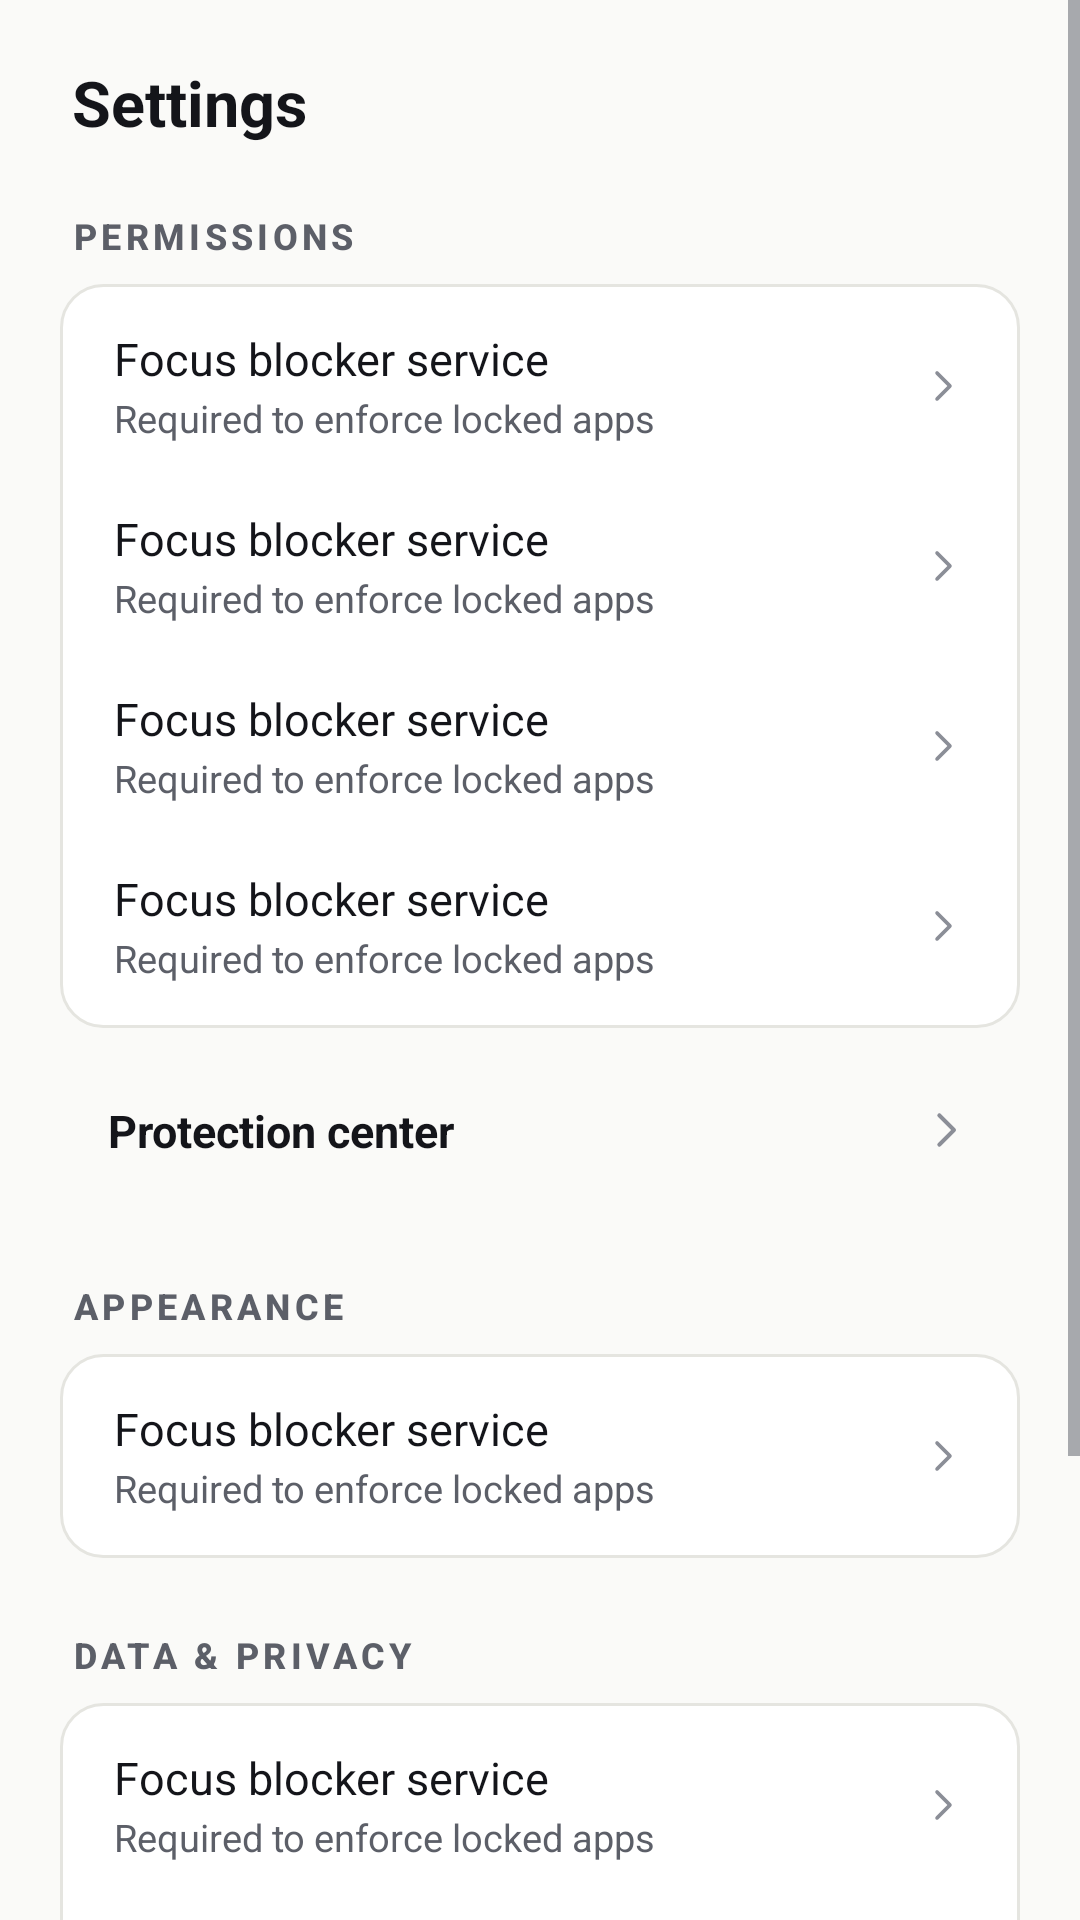

Icons on this 1080*1920 Android screen, each with its box as (x1, y1, x2, y2):
chevron right: (935, 371, 952, 401), (935, 551, 952, 581), (935, 731, 952, 761), (935, 911, 952, 941), (937, 1113, 956, 1147), (935, 1441, 952, 1471), (935, 1790, 952, 1820)
